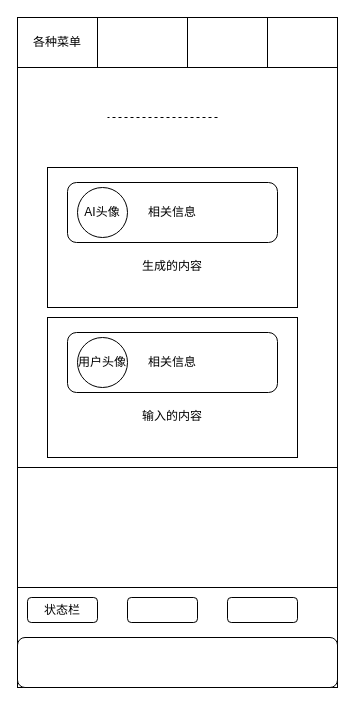
The diagram is 355 pixels wide and 705 high, and some of its shapes have lost their labels. Each missing label, with the centre of its shape:
对话框，用户在这里输入对话内容: pixel 177 662
若正在生成内容则为动态加载的生成内容 否则则为最后一条消息: pixel 177 527
